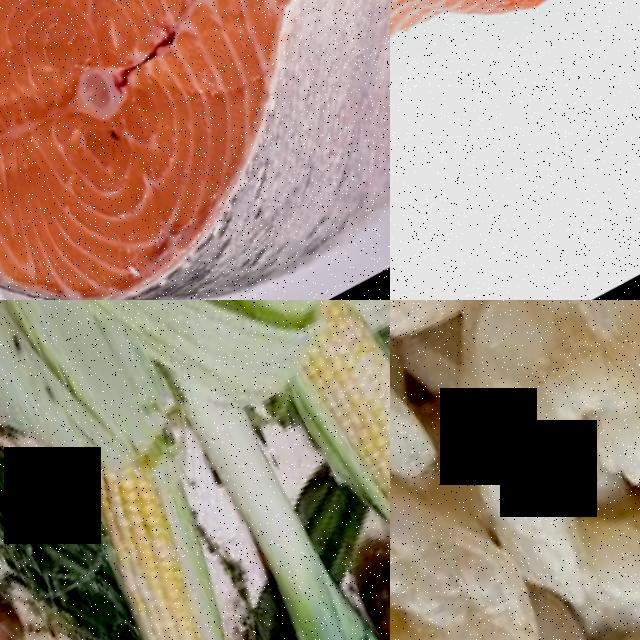salmon: (0, 0, 390, 300), (390, 0, 640, 162)
shrimp: (395, 300, 640, 616), (390, 435, 581, 640), (390, 300, 551, 363)
